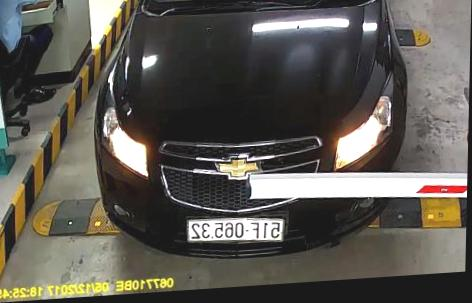License_Plate: (185, 213, 285, 250)
